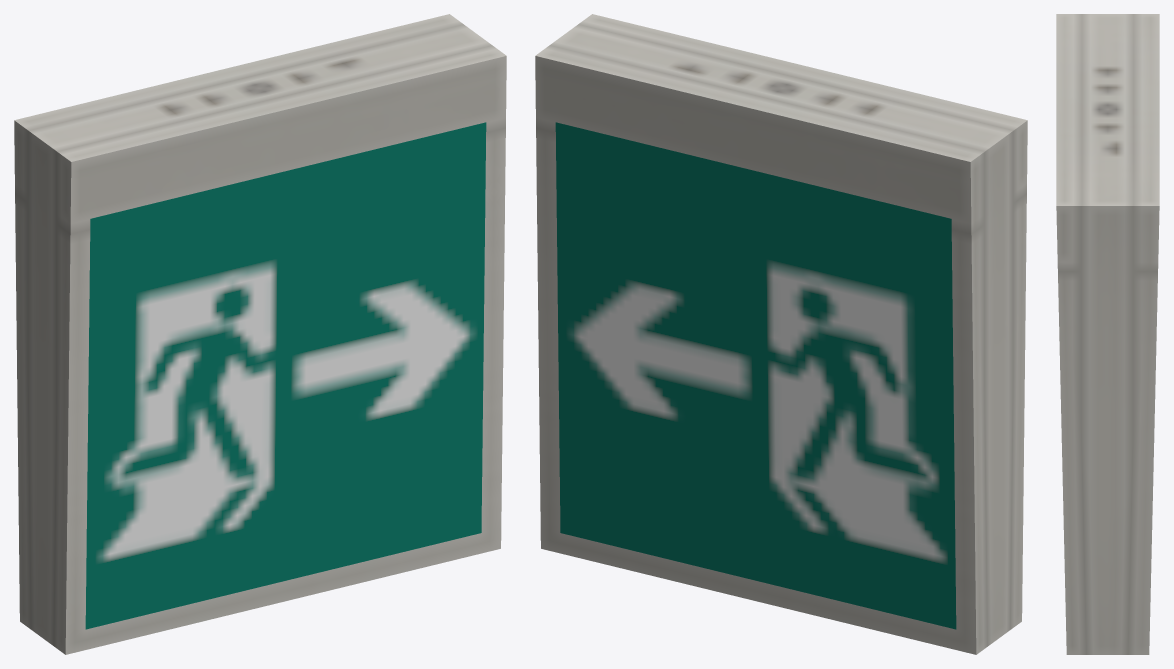
File: SHW_Exitlight_mini_01_09.fbx
The picture shows the model from 3 angles, left to right: view 1: azimuth 30°, elevation 25°; view 2: azimuth 150°, elevation 25°; view 3: azimuth 270°, elevation 25°; orthographic projection. The views are drawn at different scales.
Parts seen in each view (by area): view 1: shw_exitlight_mini_01_09; view 2: shw_exitlight_mini_01_09; view 3: shw_exitlight_mini_01_09.
Boxes of the visible parts, bbox=[...] form: shw_exitlight_mini_01_09: bbox=[14, 14, 506, 654]; shw_exitlight_mini_01_09: bbox=[535, 14, 1027, 654]; shw_exitlight_mini_01_09: bbox=[1056, 14, 1159, 654].
Size of the model in its own units: 22 by 24 by 5.
